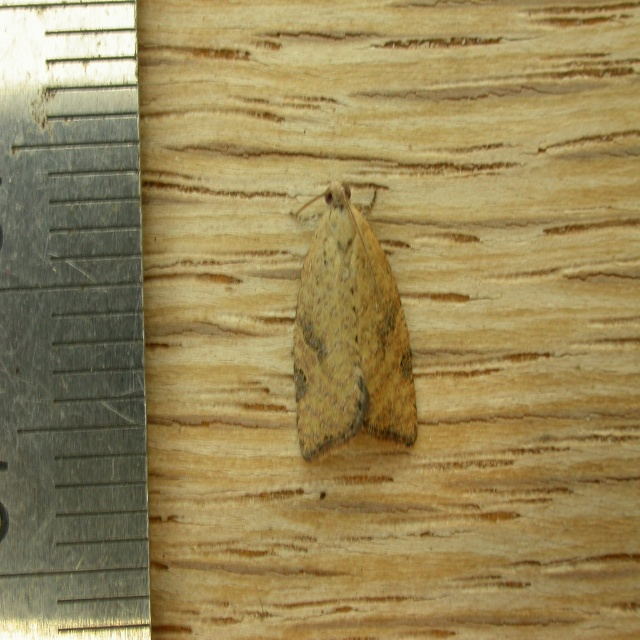Moths and butterflies: (294, 179, 422, 463)
